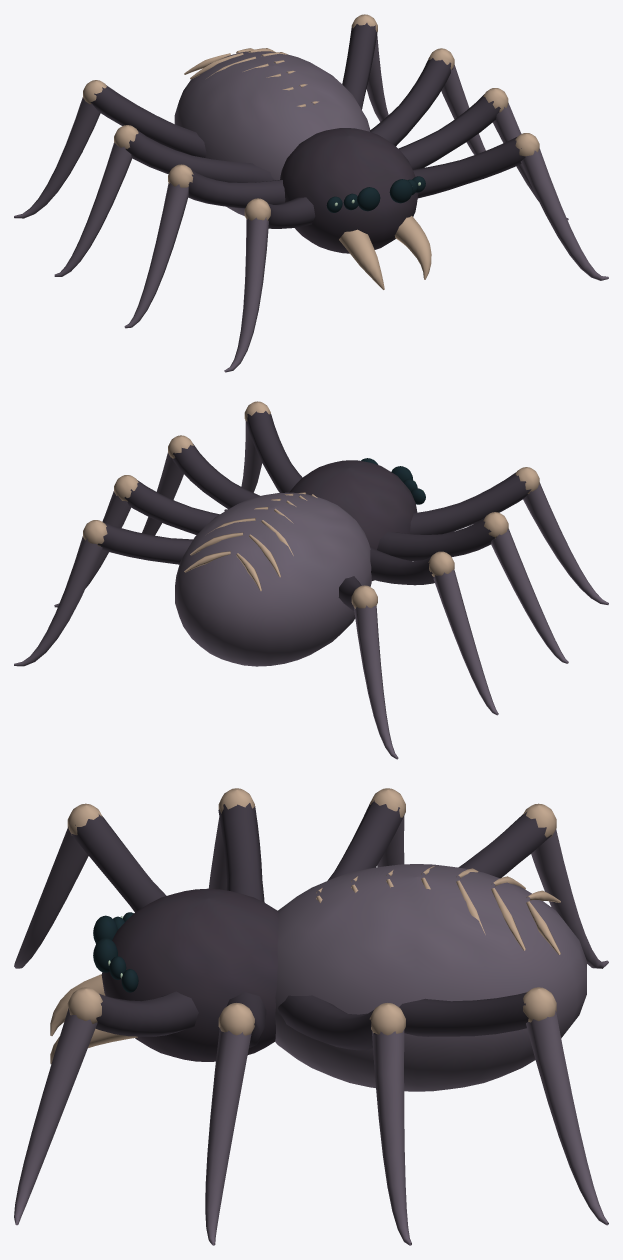
File: spider.glb
3 renders of one model, top to bottom at view 1: azimuth 30°, elevation 25°; view 2: azimuth 150°, elevation 25°; view 3: azimuth 270°, elevation 25°, orthographic. The views are drawn at different scales.
Visible parts, largest first — view 1: body; view 2: body; view 3: body.
Boxes of the visible parts, x1,y1,x2,y2 form: body: [14, 14, 608, 372]; body: [14, 401, 608, 759]; body: [14, 788, 608, 1245].
Bounding box in the file's own units: 2.71 × 0.9163 × 2.25.
